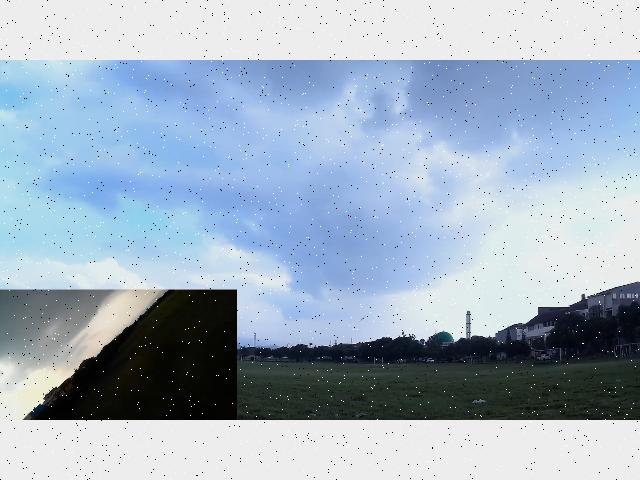Anti-Drone: (356, 315, 368, 325)
